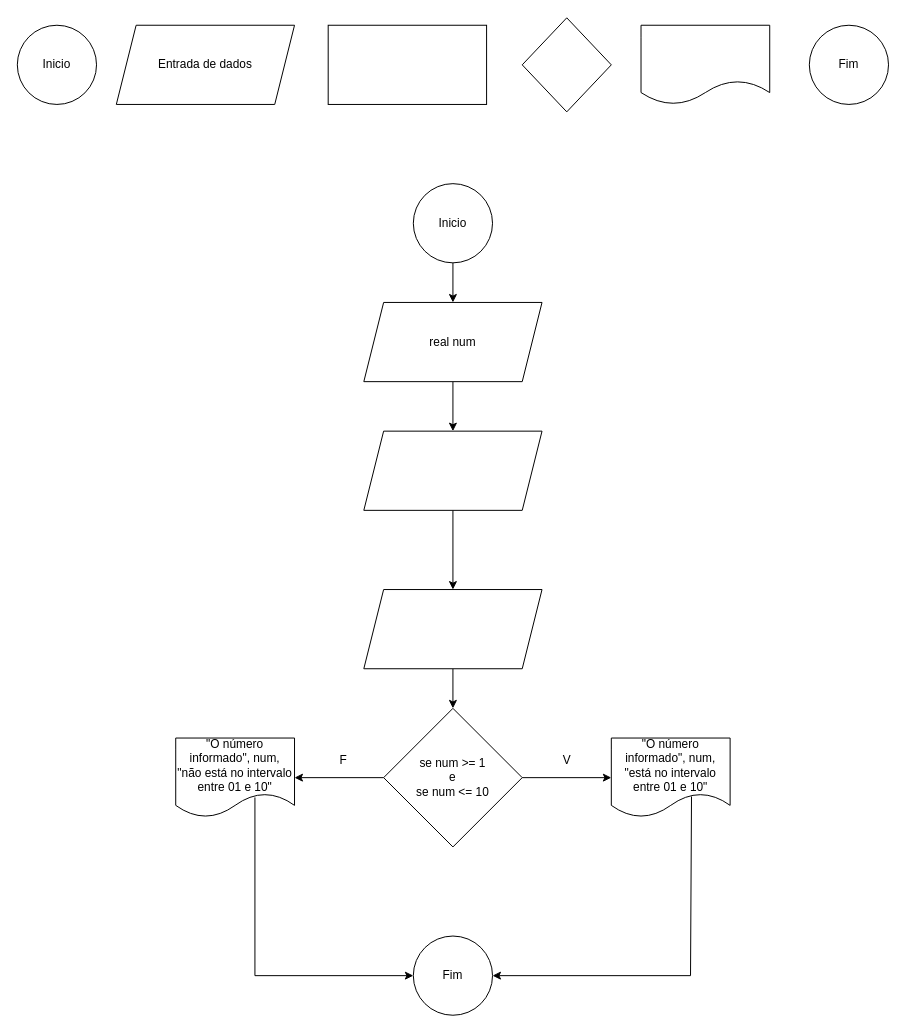
The diagram is 906 pixels wide and 1033 high, and some of its shapes have lost their labels. Here are the shapes that lost their labels. From the top down, the box of each, then its label:
(327, 24, 487, 104): Processamento
(521, 17, 611, 112): Decisões Validar
(640, 24, 770, 104): Saída de dados impressão
(363, 430, 542, 510): "Digite um número entre 01 e 10"
(363, 589, 542, 669): leia num
